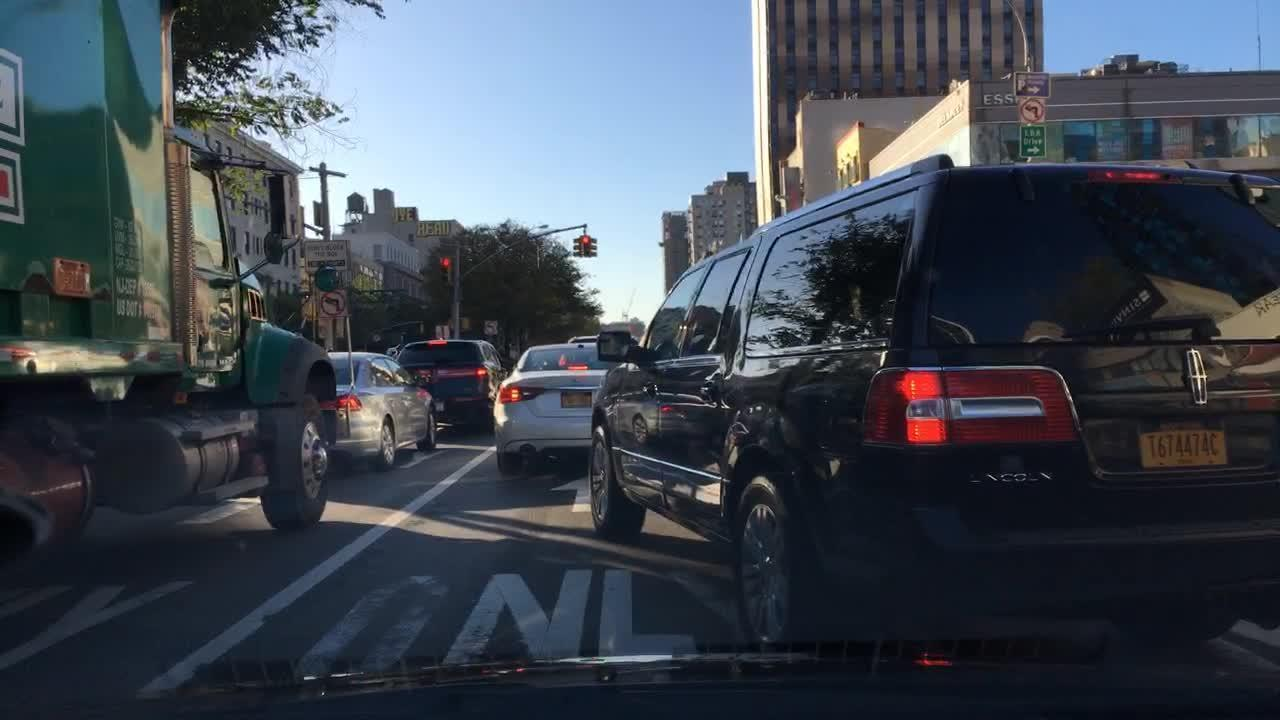lincoln: (1164, 341, 1220, 410)
